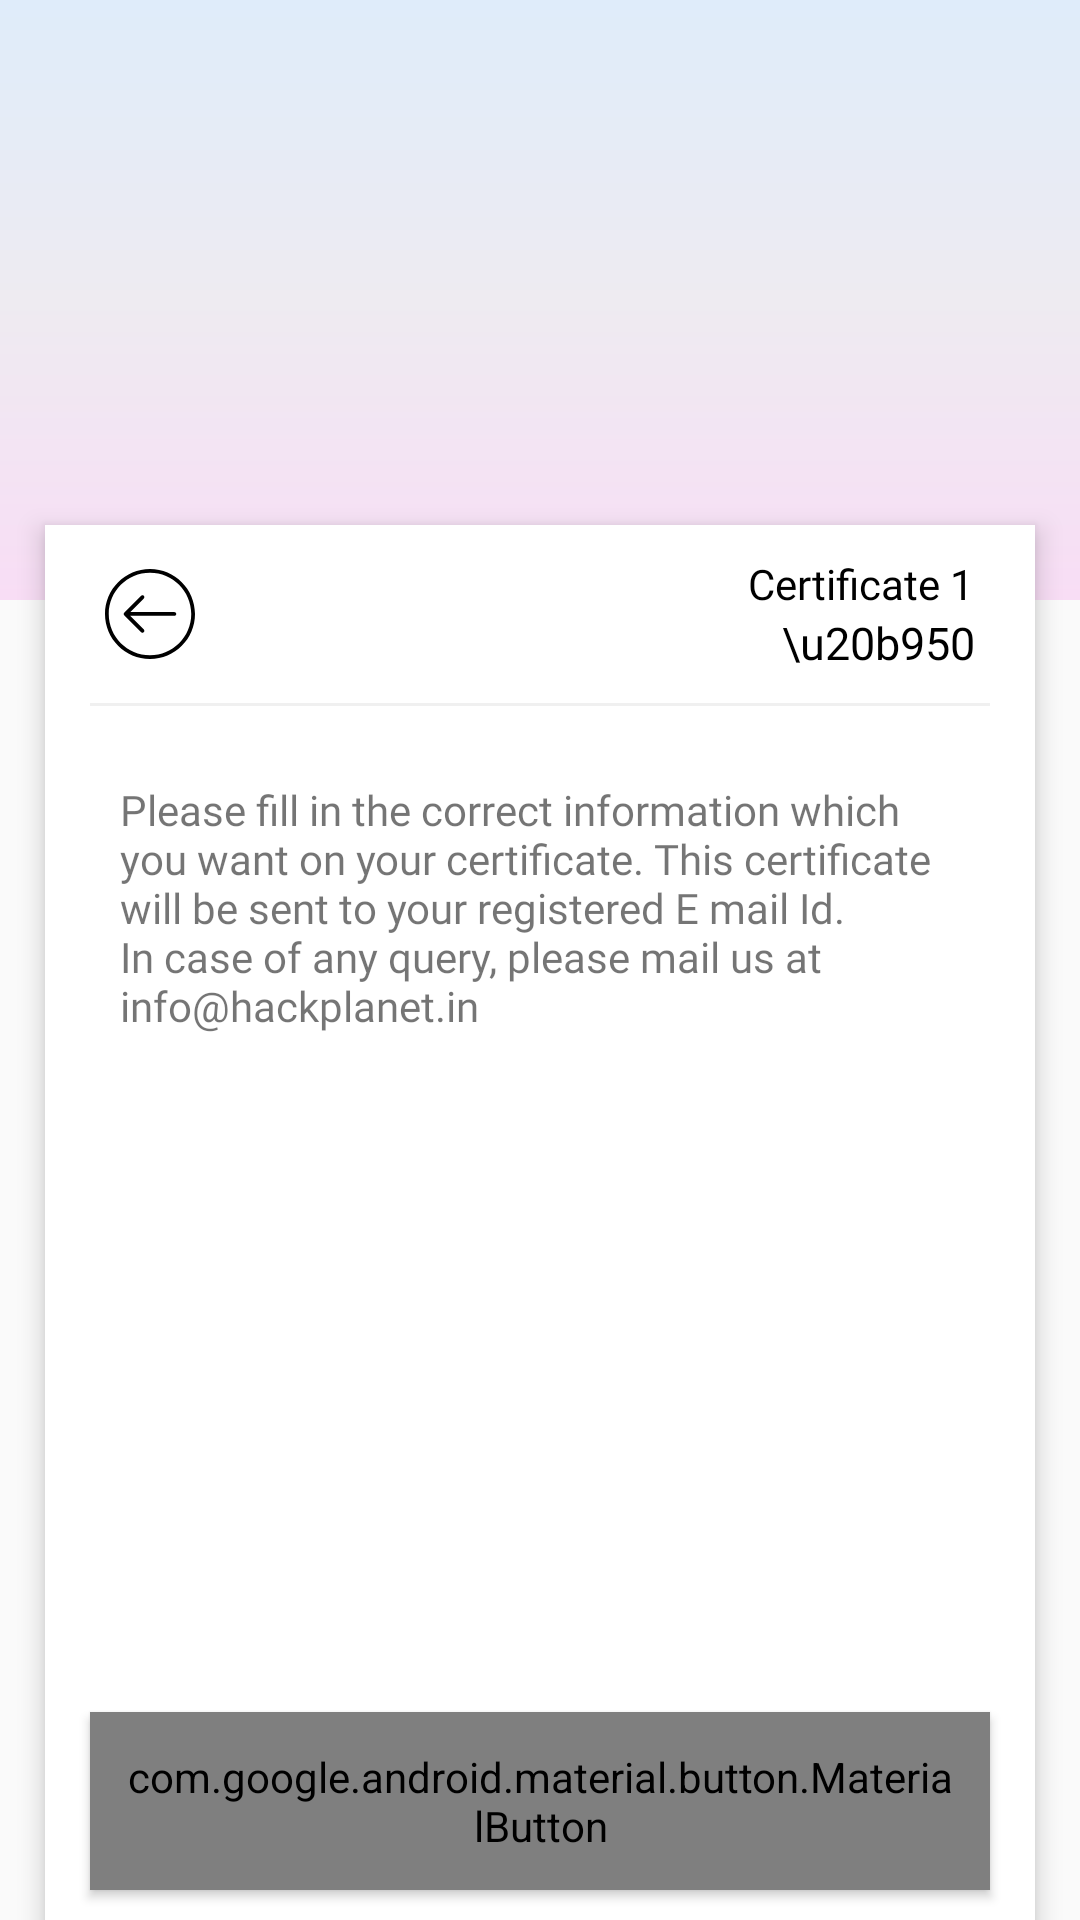

Named icons in this screenshot (1080px x 1920px) and their bounding boxes, region(x1, y1, x2, y2):
return: region(105, 569, 195, 659)
